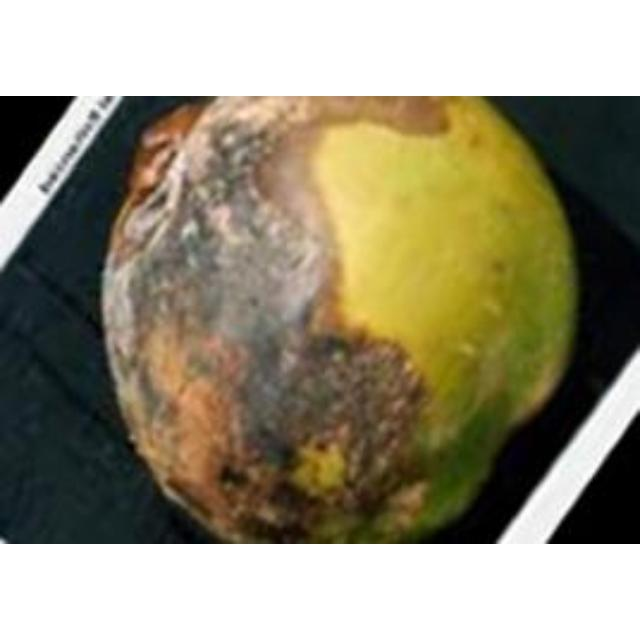damaged: (96, 96, 583, 543)
